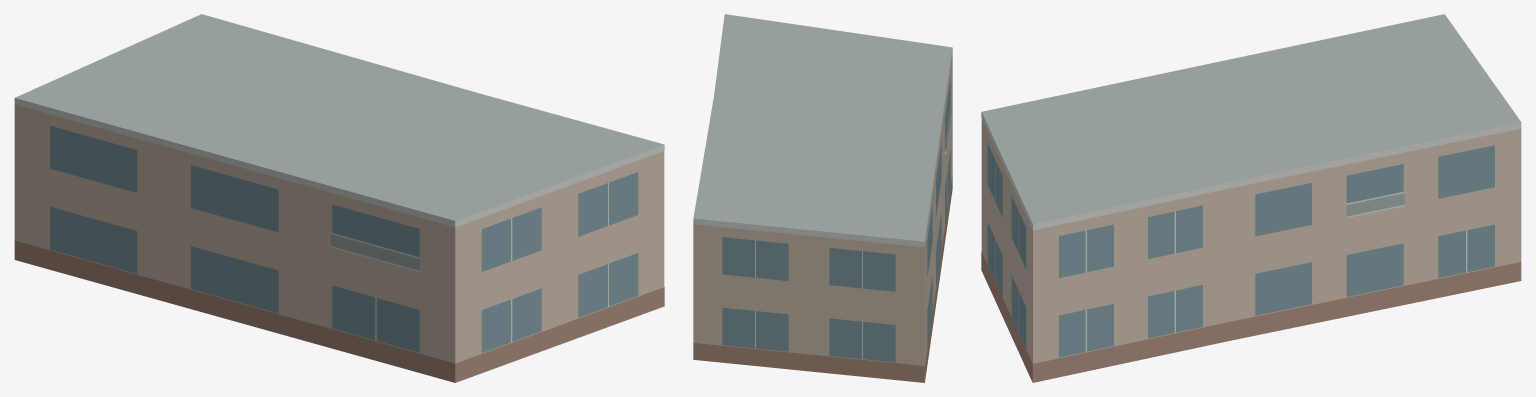
Rendered from survey-upis-32729538.glb.
The picture shows the model from 3 angles, left to right: view 1: azimuth 30°, elevation 25°; view 2: azimuth 150°, elevation 25°; view 3: azimuth 270°, elevation 25°; orthographic projection. The views are drawn at different scales.
Visible parts, largest first — view 1: survey-upis-32729538.tmp; view 2: survey-upis-32729538.tmp; view 3: survey-upis-32729538.tmp.
Boxes of the visible parts, x1=… form: survey-upis-32729538.tmp: x1=14, y1=14, x2=664, y2=382; survey-upis-32729538.tmp: x1=693, y1=14, x2=952, y2=382; survey-upis-32729538.tmp: x1=981, y1=14, x2=1521, y2=382.
Bounding box in the file's own units: 17.34 × 6.1 × 18.82.
